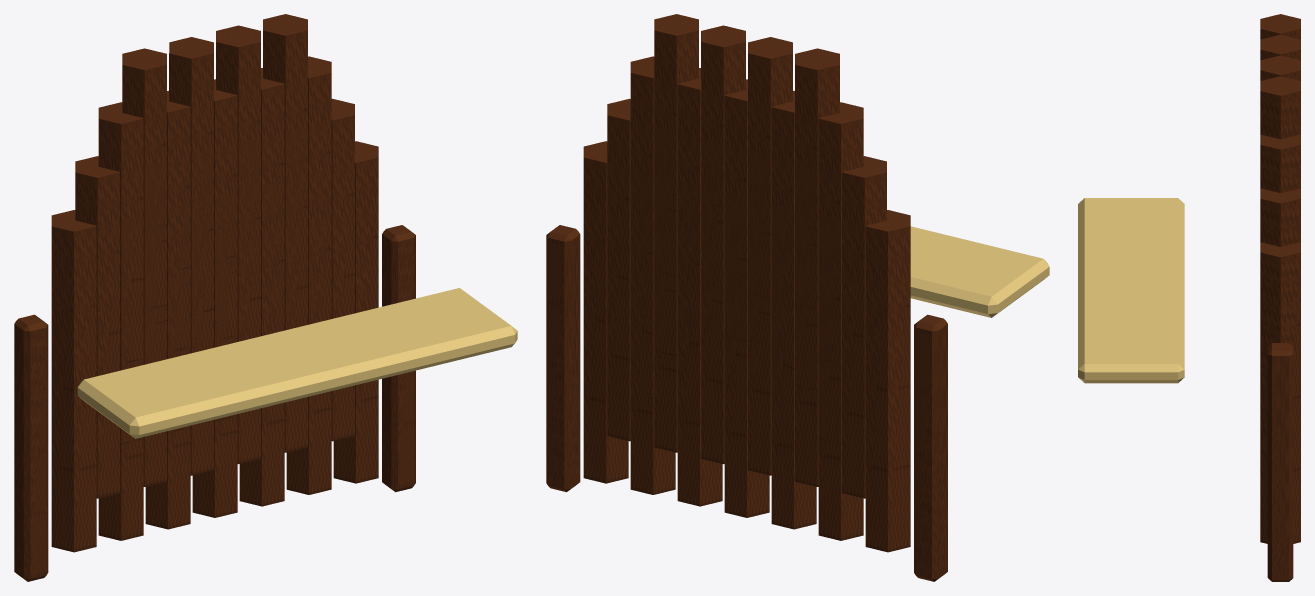
File: fantasy-mmo-city-and-townsfolk-firewood-stack-1b7bc0e3__32780.glb
3 renders of one model, left to right at view 1: azimuth 30°, elevation 25°; view 2: azimuth 150°, elevation 25°; view 3: azimuth 270°, elevation 25°, orthographic. The views are drawn at different scales.
Visible parts, largest first — view 1: firewood-stack; view 2: firewood-stack; view 3: firewood-stack.
Part boxes in pixels (x1,y1,x2,y2): firewood-stack: (14,14,517,581); firewood-stack: (546,14,1049,581); firewood-stack: (1078,14,1300,581).
Bounding box in the file's own units: 1.92 × 2.29 × 1.05.
2 materials, 1 textured.
